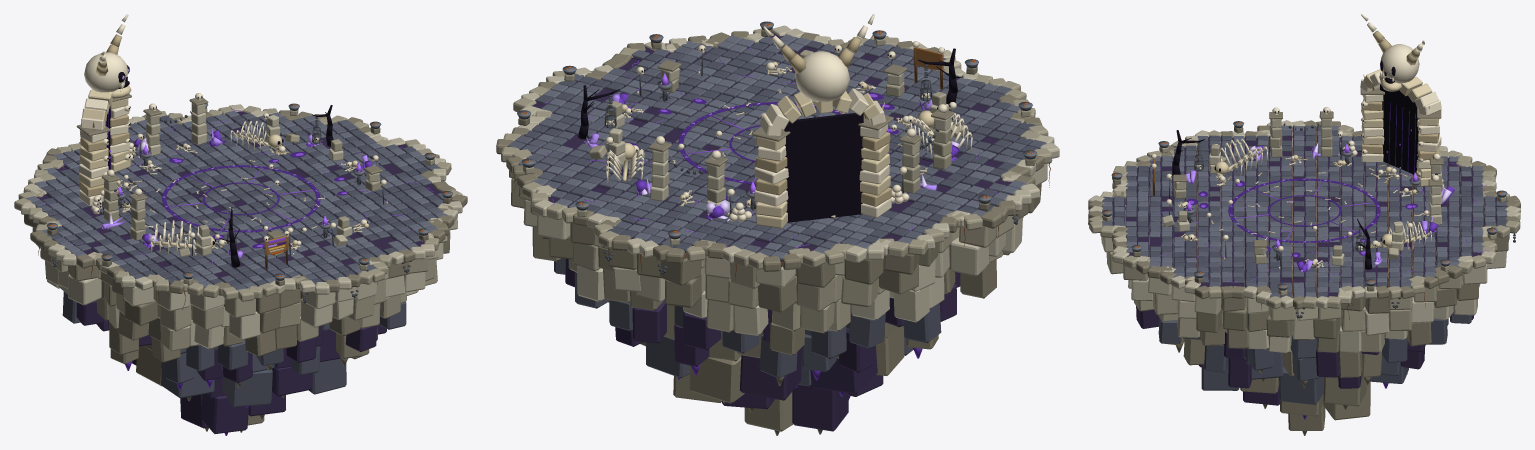
The model's file is boss-ile.glb.
3 renders of one model, left to right at view 1: azimuth 30°, elevation 25°; view 2: azimuth 150°, elevation 25°; view 3: azimuth 270°, elevation 25°, orthographic. The views are drawn at different scales.
Parts seen in each view (by area): view 1: pierre_fond.084, pierre_fond.088, crane.008, pierre_fond.154, pierre_fond.122, pierre_fond.049, pierre.005, pierre_fond.045, pierre_fond.054, pierre.065, pierre.021, pierre.035 (+23 smaller); view 2: passage, pierre_fond.079, crane.008, pierre_fond.102, pierre_fond.069, pierre_fond.041, pierre_fond.113, pierre_fond.127, pierre.001, pierre_fond.136, pierre_fond, pierre_fond.045 (+37 smaller); view 3: passage, pierre_fond.180, crane.008, pierre_fond.176, pierre_fond.141, pierre_fond.196, pierre_fond.113, pierre_fond.154, pierre_fond.213, pierre_fond.186, pierre_fond.215, pierre_fond.200 (+26 smaller).
Part boxes in pixels (<box>): pierre_fond.084: <box>201,394,248,433</box>; pierre_fond.088: <box>222,369,272,407</box>; crane.008: <box>84,52,128,92</box>; pierre_fond.154: <box>309,358,346,394</box>; pierre_fond.122: <box>271,366,312,396</box>; pierre_fond.049: <box>161,362,214,398</box>; pierre.005: <box>68,274,101,305</box>; pierre_fond.045: <box>136,346,161,386</box>; pierre_fond.054: <box>218,339,248,370</box>; pierre.065: <box>229,311,260,339</box>; pierre.021: <box>124,299,157,325</box>; pierre.035: <box>159,303,191,331</box>; passage: <box>784,113,863,222</box>; pierre_fond.079: <box>792,385,848,431</box>; crane.008: <box>794,51,849,102</box>; pierre_fond.102: <box>689,356,744,403</box>; pierre_fond.069: <box>740,347,802,400</box>; pierre_fond.041: <box>810,347,877,394</box>; pierre_fond.113: <box>744,392,793,431</box>; pierre_fond.127: <box>632,300,666,343</box>; pierre.001: <box>949,237,989,276</box>; pierre_fond.136: <box>646,337,689,378</box>; pierre_fond: <box>893,286,929,322</box>; pierre_fond.045: <box>876,325,904,375</box>; passage: <box>1380,84,1418,174</box>; pierre_fond.180: <box>1279,366,1324,404</box>; crane.008: <box>1380,44,1419,83</box>; pierre_fond.176: <box>1323,377,1366,406</box>; pierre_fond.141: <box>1323,381,1370,420</box>; pierre_fond.196: <box>1228,357,1251,388</box>; pierre_fond.113: <box>1288,403,1325,430</box>; pierre_fond.154: <box>1201,364,1239,390</box>; pierre_fond.213: <box>1338,350,1362,377</box>; pierre_fond.186: <box>1204,345,1228,372</box>; pierre_fond.215: <box>1316,350,1339,377</box>; pierre_fond.200: <box>1382,336,1407,362</box>.
Bounding box in the file's own units: 36.2 × 34.26 × 36.2.
